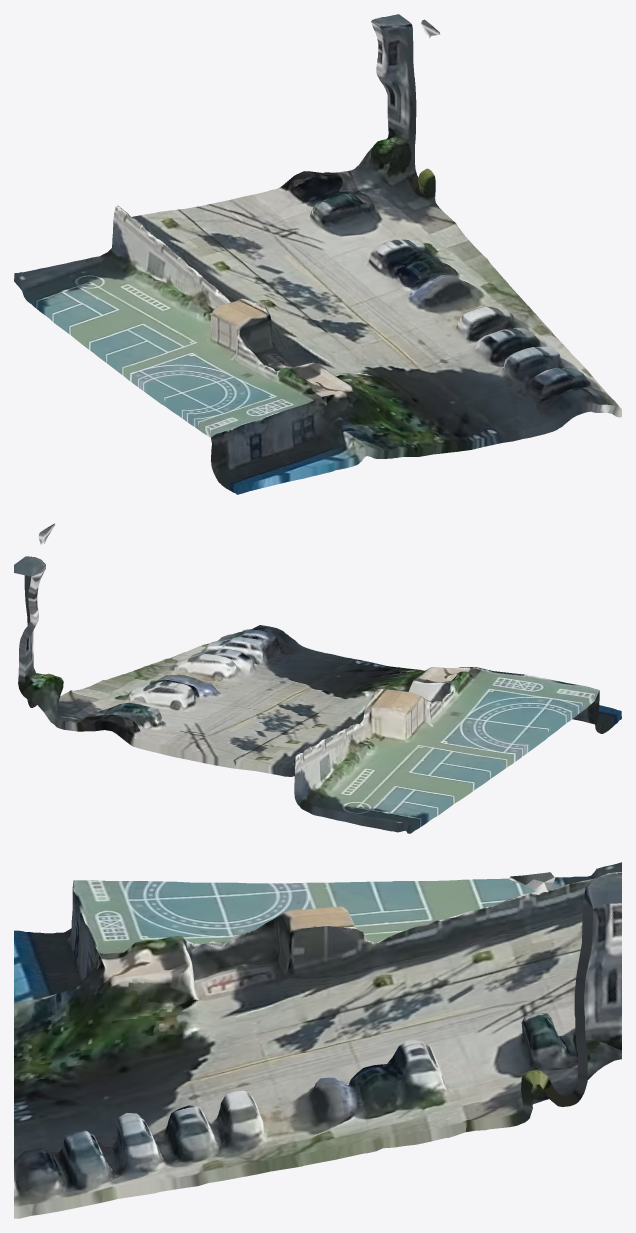
Rendered from z20-167723-405195-h0-yup-uvflip-v3-world.glb.
3 renders of one model, top to bottom at view 1: azimuth 30°, elevation 25°; view 2: azimuth 150°, elevation 25°; view 3: azimuth 270°, elevation 25°, orthographic. The views are drawn at different scales.
Size of the model in its own units: 30.2 by 18.96 by 30.32.
Materials: 1 (1 with a texture image).
